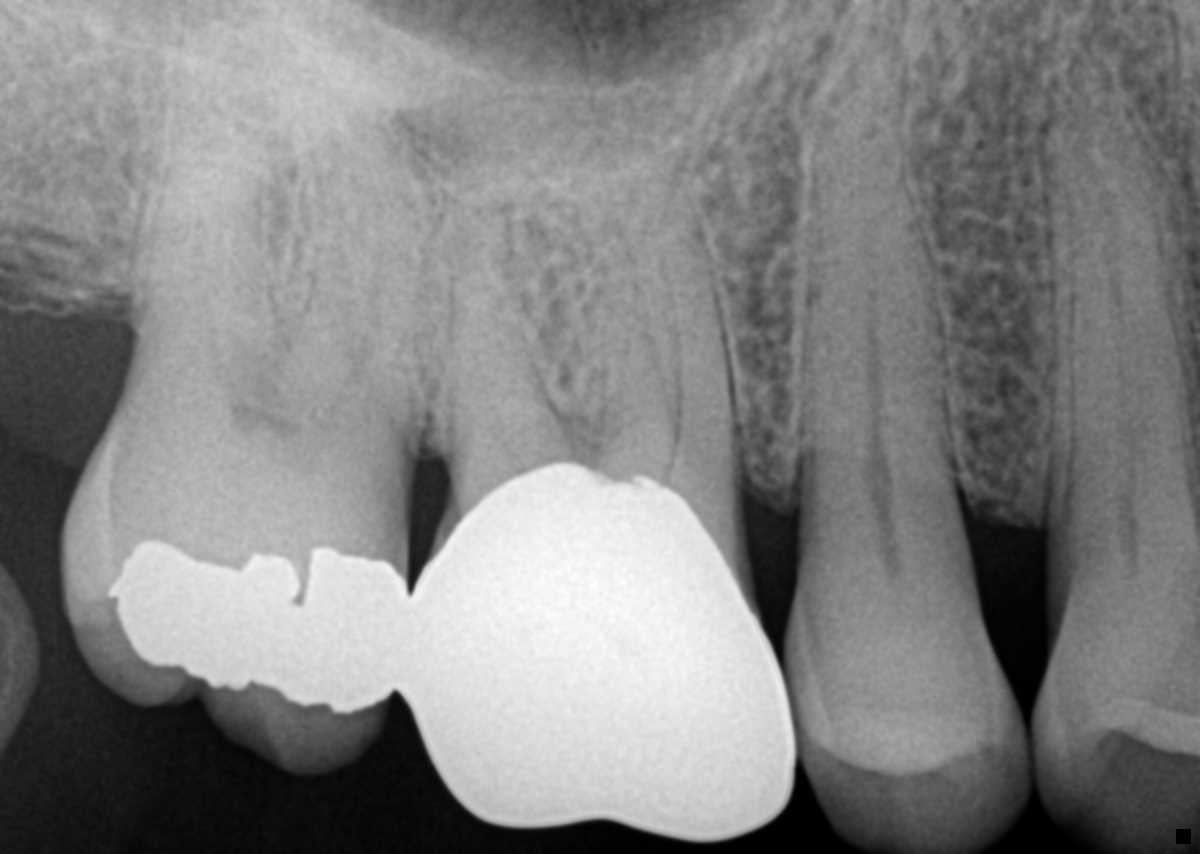Distal Canal: (477, 384, 518, 455)
Distal Root: (142, 22, 286, 344), (413, 184, 563, 477)
Main Canal: (1091, 185, 1139, 495), (866, 253, 893, 478)
Main Root: (1042, 51, 1200, 513), (798, 38, 957, 483)
Mesial Canal: (345, 166, 386, 388), (658, 251, 687, 445)
Mesial Root: (272, 24, 452, 419), (576, 132, 737, 446)
Palatal Root: (448, 0, 687, 455)
